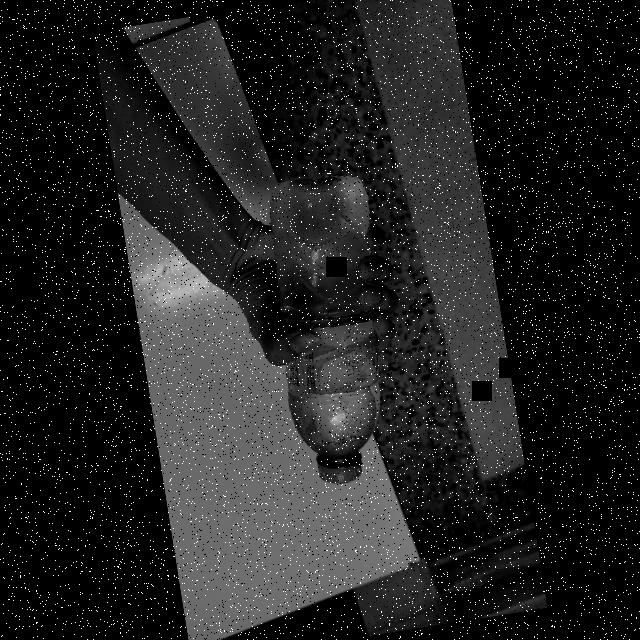plastic_bottle: (250, 164, 419, 494)
plastic_bottle_cap: (312, 446, 366, 488)
